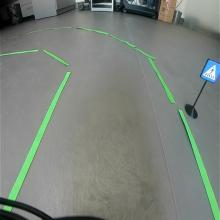crosswalk: (199, 58, 220, 83)
